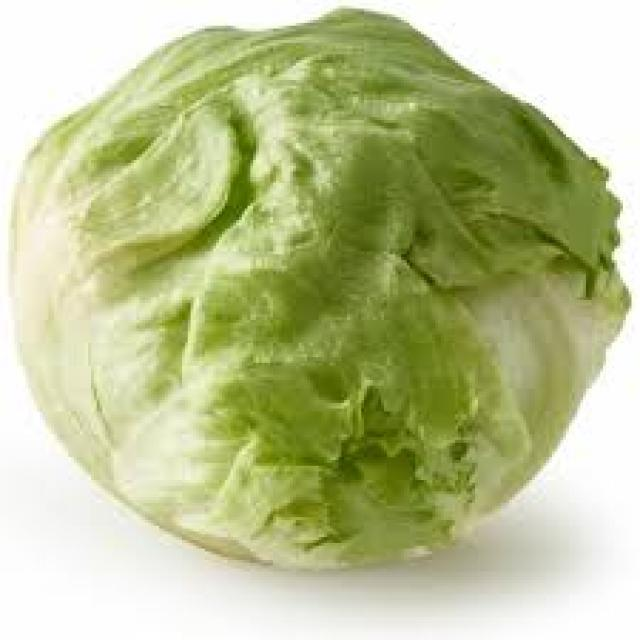Lettuce: (11, 4, 632, 572)
